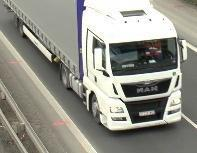Truck: (3, 0, 184, 132)
